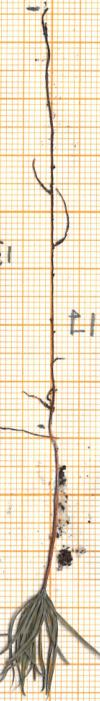flower: (3, 589, 100, 700)
root: (22, 5, 71, 440)
stem: (39, 445, 63, 584)
